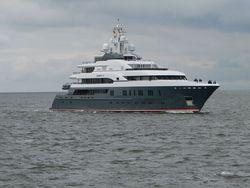yacht: (50, 17, 222, 112)
